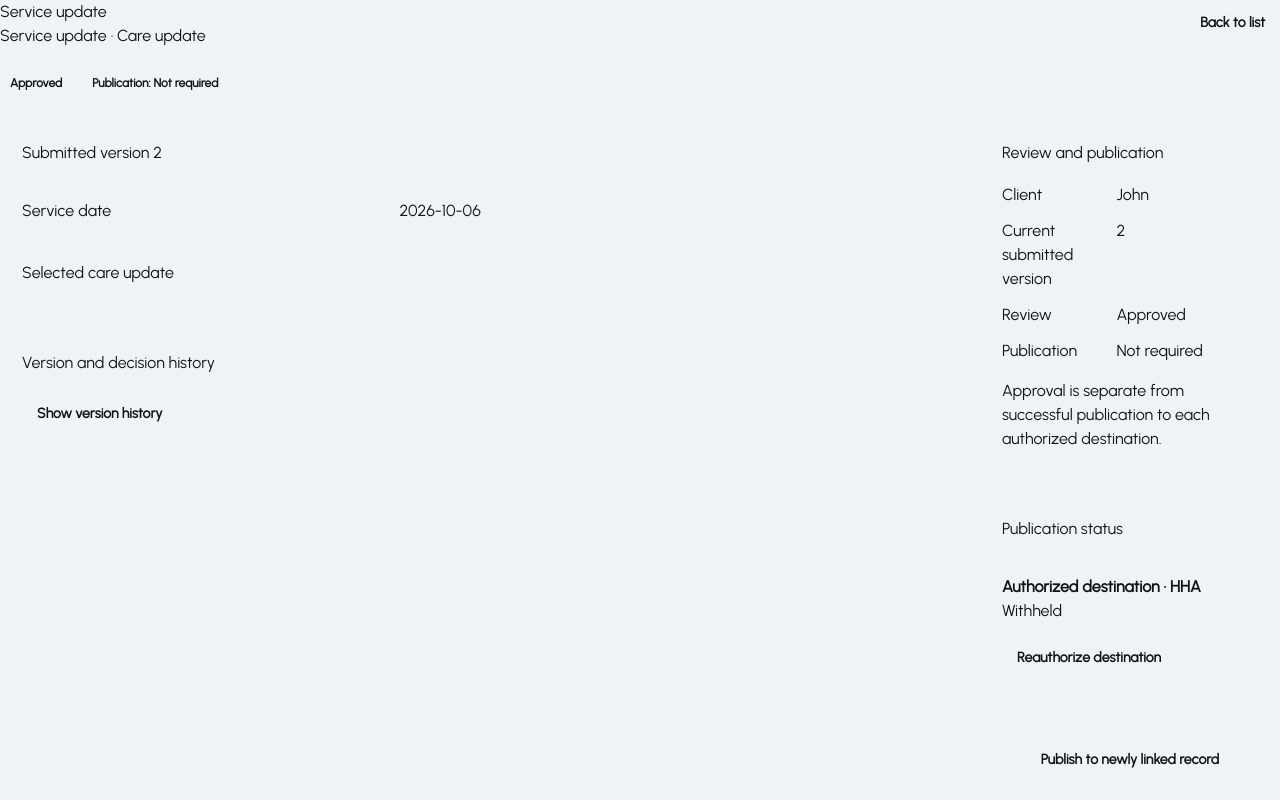
it: reauthorizes only the displayed current confirmed program and source client after acknowledgement
Later steps or results of the test are not shown.
Click the button "Reauthorize destination": (1089, 658) [1002,637,1176,679]
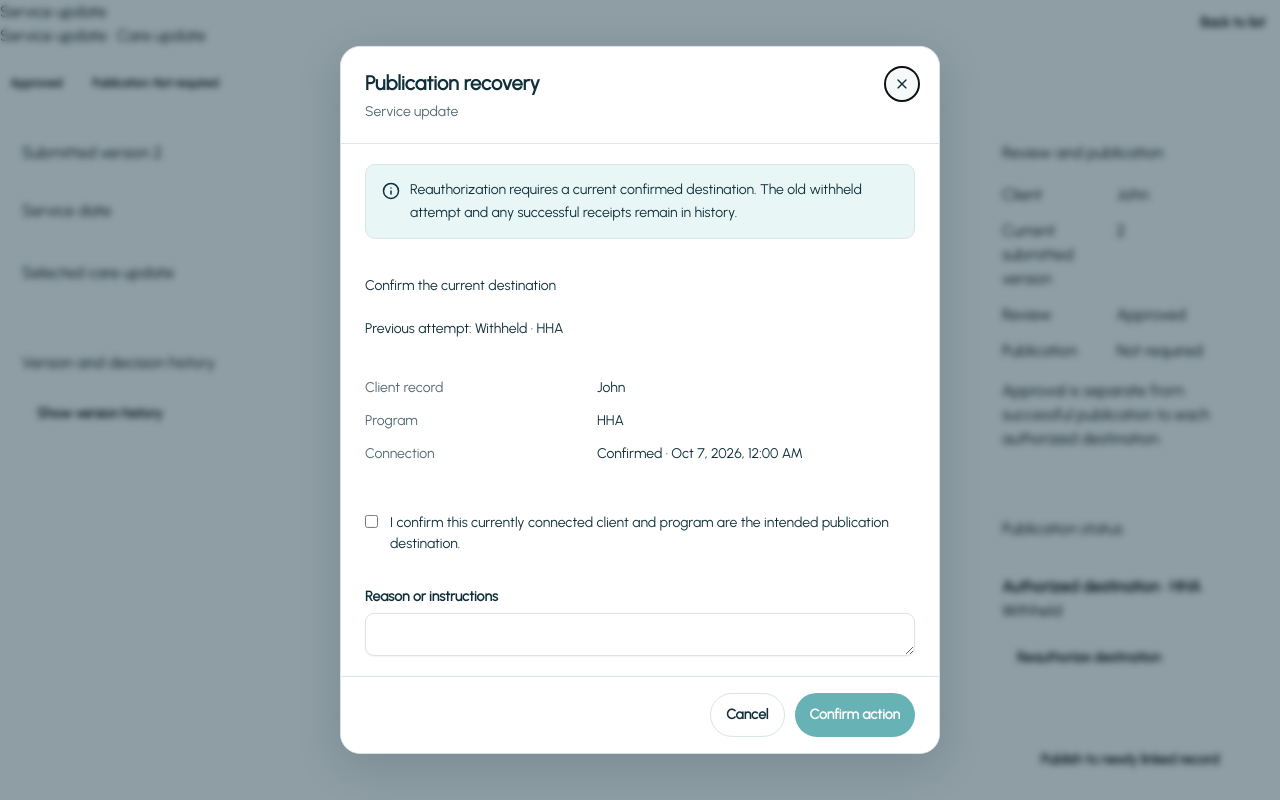
Result: the button "Confirm action" is disabled at [794,693,915,737]
